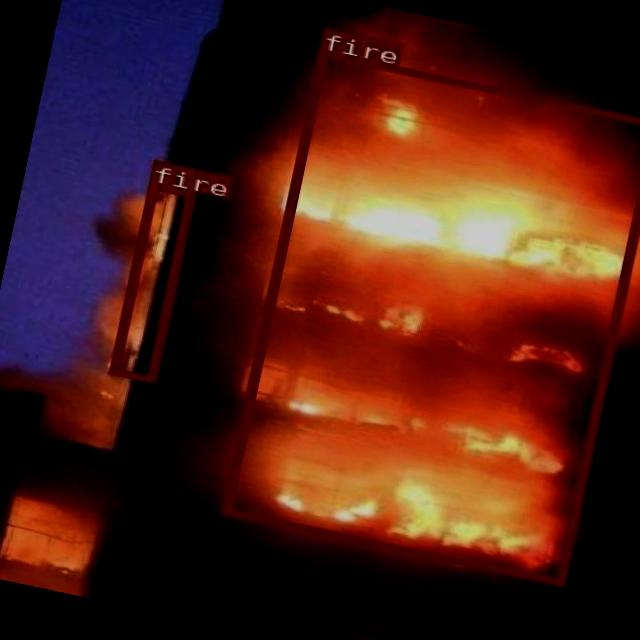fire: (219, 48, 640, 584), (108, 180, 194, 382)
